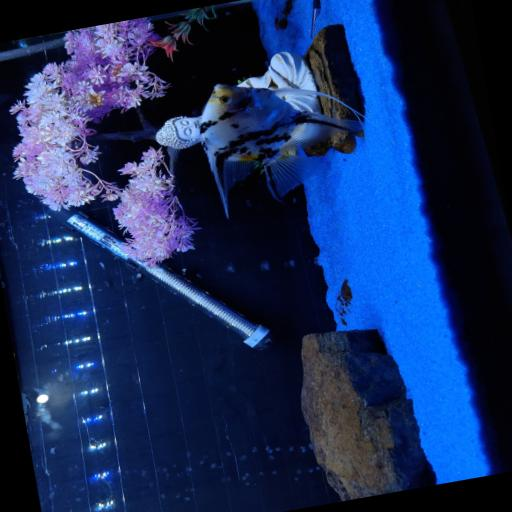Fish: (200, 84, 363, 215)
